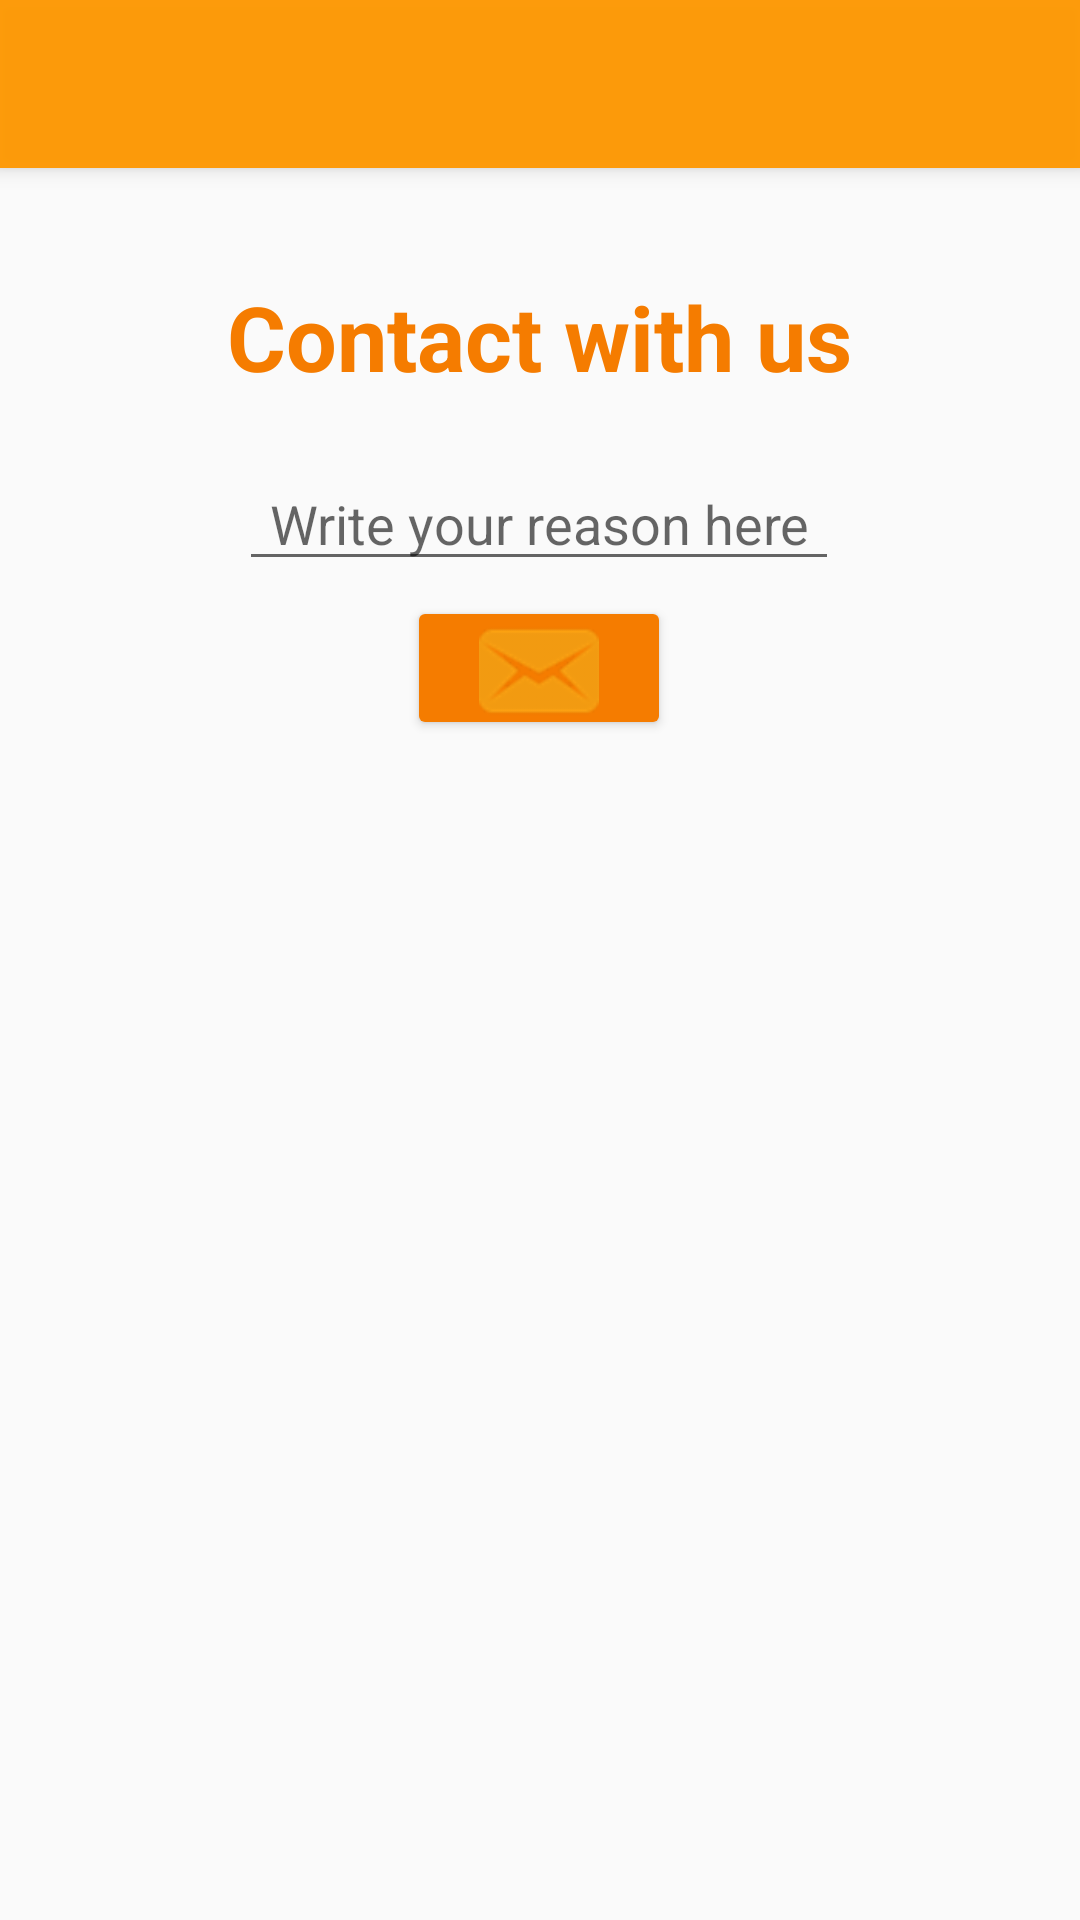

Point at icon controls on the screen. Image size 1080 x 1920, points as (x=x, y=y).
enviar: (x=539, y=671)
